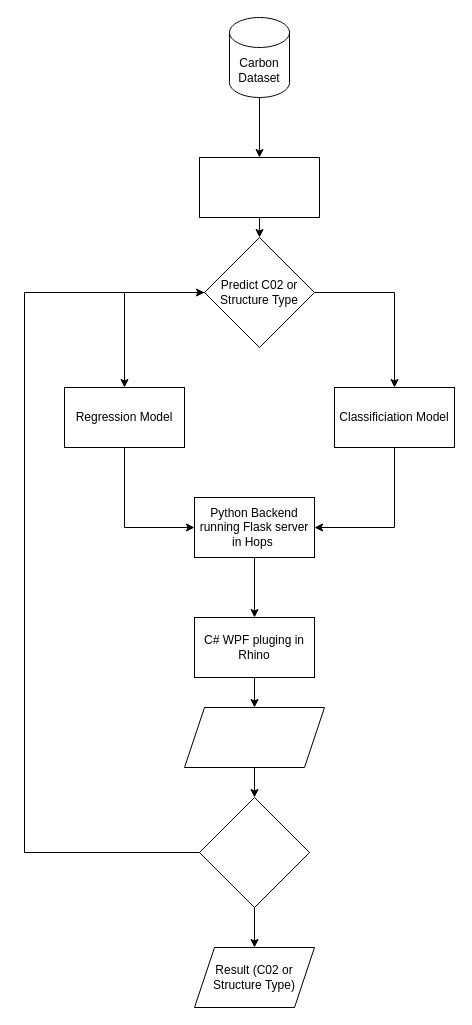
Some shapes in this 472 by 1025 pixel diagram are drawn without their labels. Here are the shapes that lost their labels. From the top down, the box of each, then its label:
(198, 156, 320, 218): Train model in Tensorflow and Keras
(184, 706, 324, 768): User input in Rhino
(198, 796, 310, 908): C02 or Structure Type
